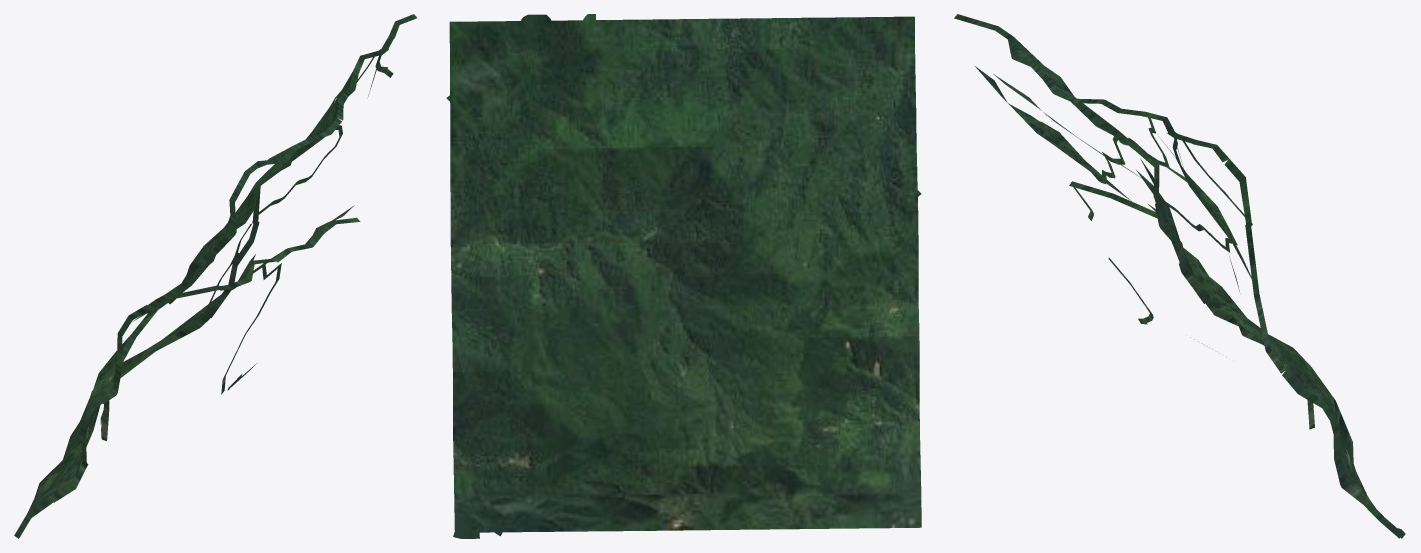
3 views of the same model, side by side, from view 1: azimuth 30°, elevation 25°; view 2: azimuth 150°, elevation 25°; view 3: azimuth 270°, elevation 25° (orthographic). The views are drawn at different scales.
Size of the model in its own units: 4927 by 4536 by 4381.
Materials: 1 (1 with a texture image).
